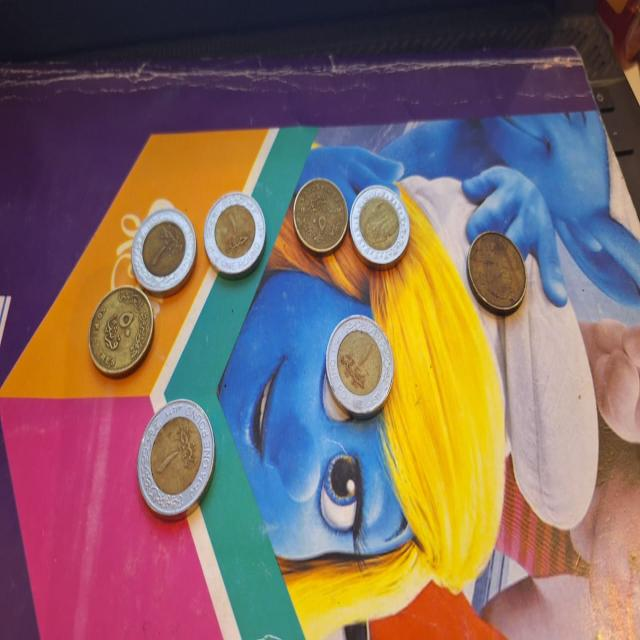Half Pound: (86, 281, 160, 386), (465, 229, 529, 321), (292, 172, 349, 268)
One Pound: (139, 394, 217, 532), (325, 312, 394, 422), (129, 209, 207, 291), (351, 181, 418, 268), (203, 191, 267, 277)
